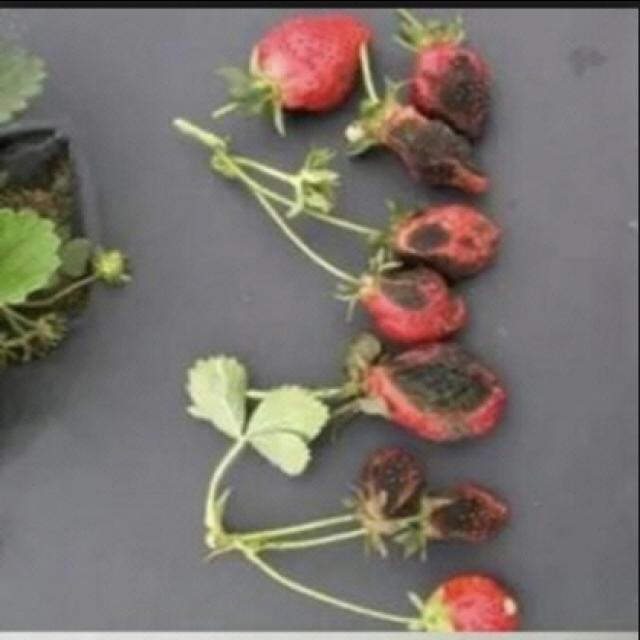Anthracnose Fruit Rot: (417, 354, 483, 412), (404, 120, 460, 180), (445, 59, 483, 117), (379, 454, 416, 499), (448, 492, 488, 530), (388, 272, 424, 302), (416, 226, 447, 244)
